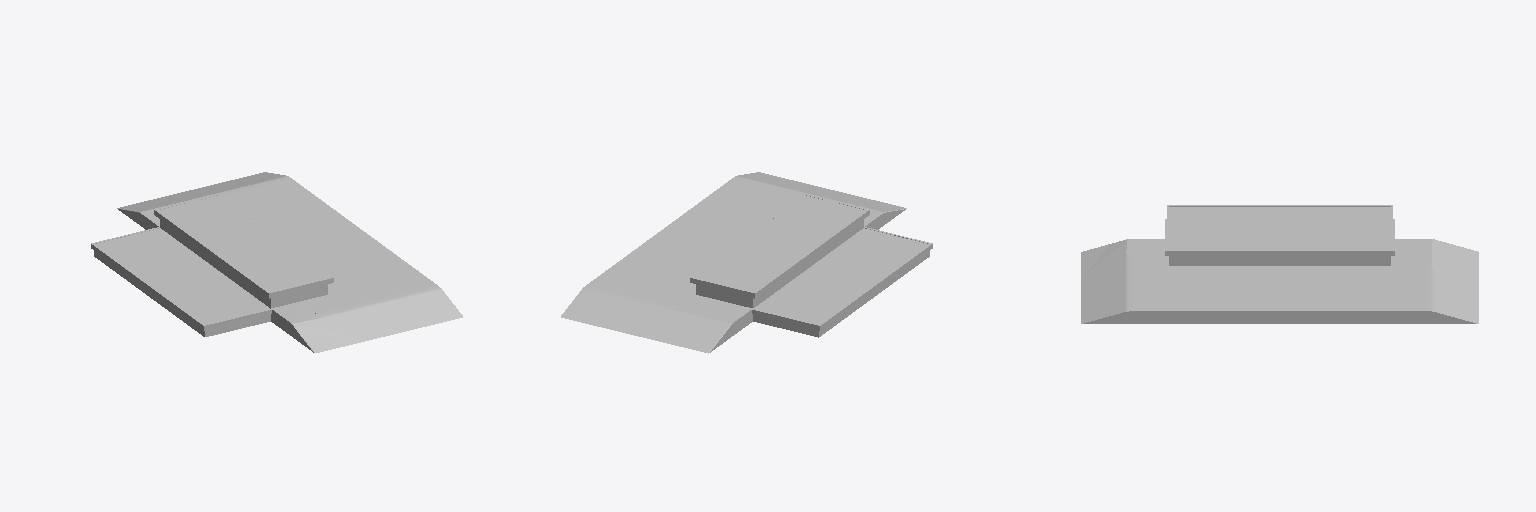
Rendered from manyramp.obj.
3 renders of one model, left to right at view 1: azimuth 30°, elevation 25°; view 2: azimuth 150°, elevation 25°; view 3: azimuth 270°, elevation 25°, orthographic.
Visible parts, largest first — view 1: Cube.002; view 2: Cube.002; view 3: Cube.002.
Part boxes in pixels (left/top/right/bottom): Cube.002: left=91, top=172, right=462, bottom=352; Cube.002: left=561, top=172, right=932, bottom=353; Cube.002: left=1081, top=205, right=1478, bottom=323.
Bounding box in the file's own units: 6.83 × 0.9117 × 10.81.